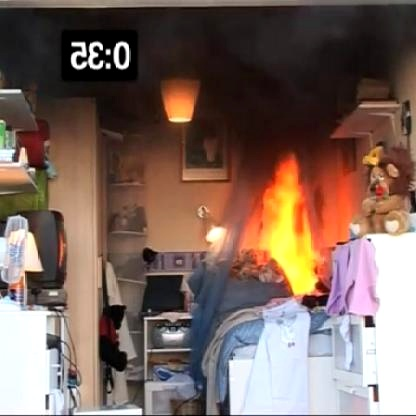fire: (245, 150, 353, 293)
